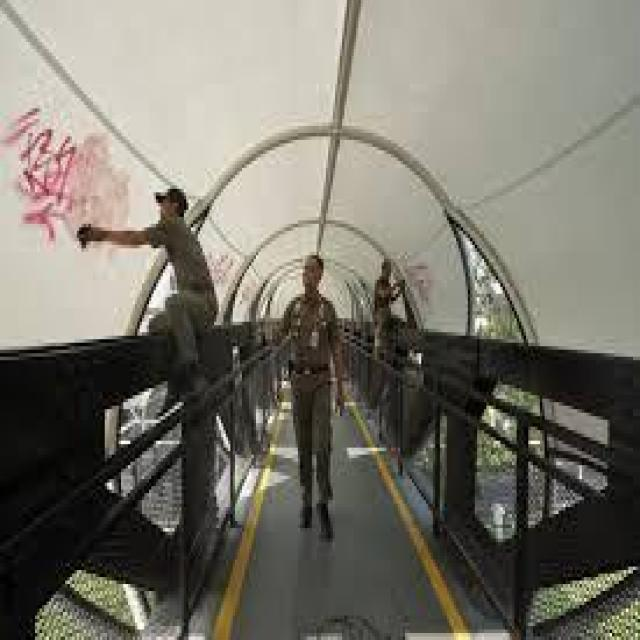nonspitting: (5, 101, 132, 252)
